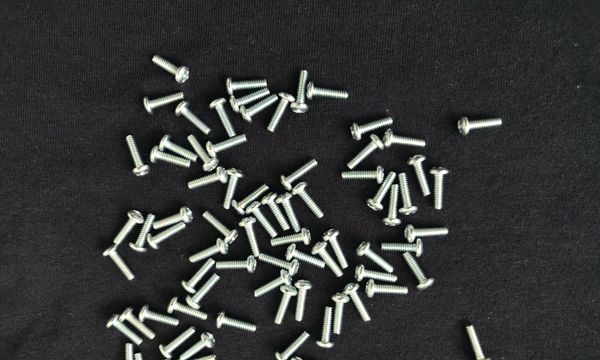shortscrew: (347, 134, 385, 169), (356, 241, 395, 274), (231, 185, 270, 217), (181, 258, 215, 294), (203, 210, 239, 244), (186, 274, 219, 311), (292, 181, 324, 219), (403, 252, 434, 291), (366, 172, 396, 212), (311, 240, 343, 277), (281, 160, 319, 191), (342, 282, 371, 322), (102, 244, 134, 280), (246, 202, 278, 238), (158, 134, 199, 162), (268, 92, 296, 133), (188, 134, 219, 171), (152, 54, 190, 84), (206, 133, 248, 160), (176, 101, 210, 134), (120, 307, 155, 339), (107, 314, 142, 345), (209, 97, 236, 137), (255, 269, 292, 298), (130, 212, 156, 253), (323, 228, 349, 269), (262, 193, 290, 231), (241, 95, 279, 123), (115, 210, 145, 245), (275, 331, 311, 360), (180, 331, 216, 360), (147, 224, 187, 250), (350, 117, 393, 141), (126, 135, 151, 176), (190, 238, 230, 263), (230, 88, 270, 113), (167, 296, 208, 320), (153, 206, 194, 230), (285, 244, 325, 268), (143, 93, 186, 115), (459, 115, 504, 136), (149, 145, 190, 168), (224, 166, 245, 210), (275, 285, 298, 325), (398, 173, 419, 216), (188, 167, 229, 189), (260, 253, 300, 275), (466, 325, 491, 360), (216, 312, 257, 333), (139, 305, 179, 326), (216, 253, 257, 273), (384, 129, 425, 149), (272, 228, 313, 248), (239, 217, 260, 256), (430, 167, 449, 210), (291, 71, 310, 114), (355, 265, 398, 284), (383, 185, 402, 227), (405, 225, 449, 243), (365, 280, 409, 298), (316, 307, 334, 350), (306, 82, 349, 100), (332, 293, 350, 335), (342, 166, 384, 184), (226, 77, 267, 95), (295, 279, 312, 322), (381, 240, 423, 257), (122, 344, 139, 360), (175, 355, 217, 360), (135, 353, 154, 360), (277, 358, 307, 360), (153, 359, 176, 360)
